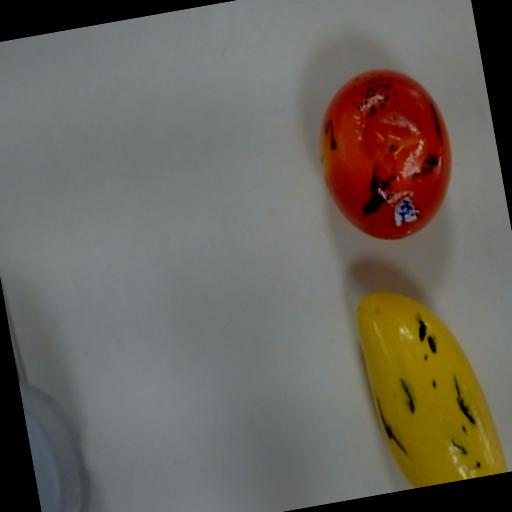Defective: (356, 284, 507, 485), (318, 63, 457, 239)
